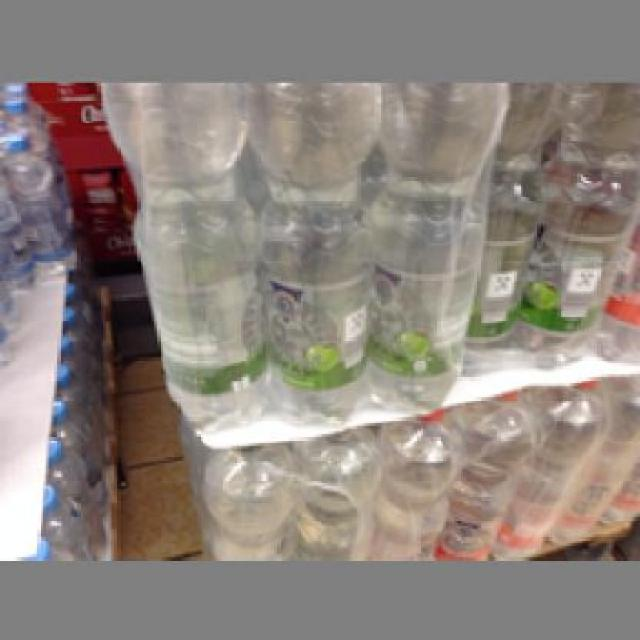Water: (97, 80, 266, 426), (238, 80, 382, 426), (372, 80, 508, 403), (505, 80, 638, 369)
